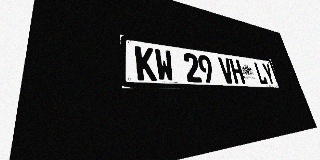2: (183, 52, 202, 82)
9: (197, 54, 215, 83)
H: (229, 58, 245, 84)
K: (135, 46, 157, 81)
L: (253, 62, 268, 85)
V: (218, 57, 235, 84)
W: (154, 48, 175, 82)
Y: (261, 63, 276, 85)
